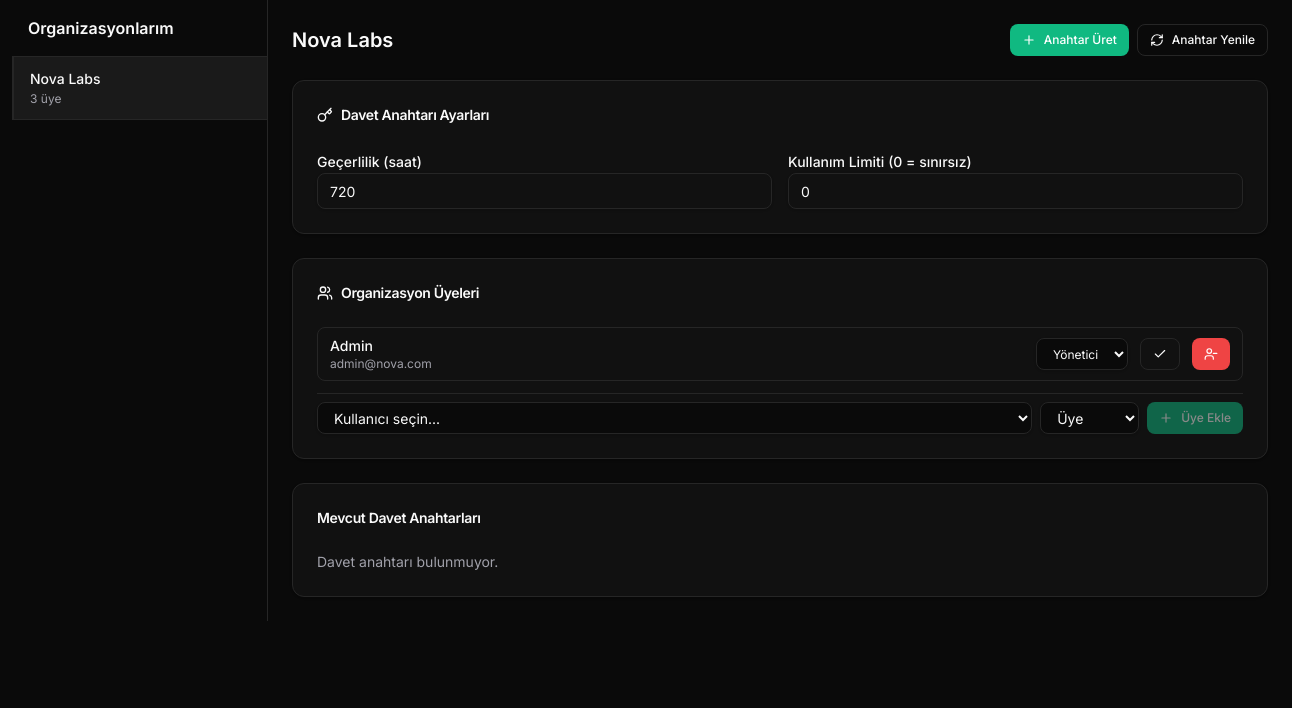
Test case: OrganizationPage › yönetilen organizasyonları listeler ve yeni davet anahtarı üretir
Click the button "Anahtar Üret" at (1069,40), box [1010,24,1129,56]
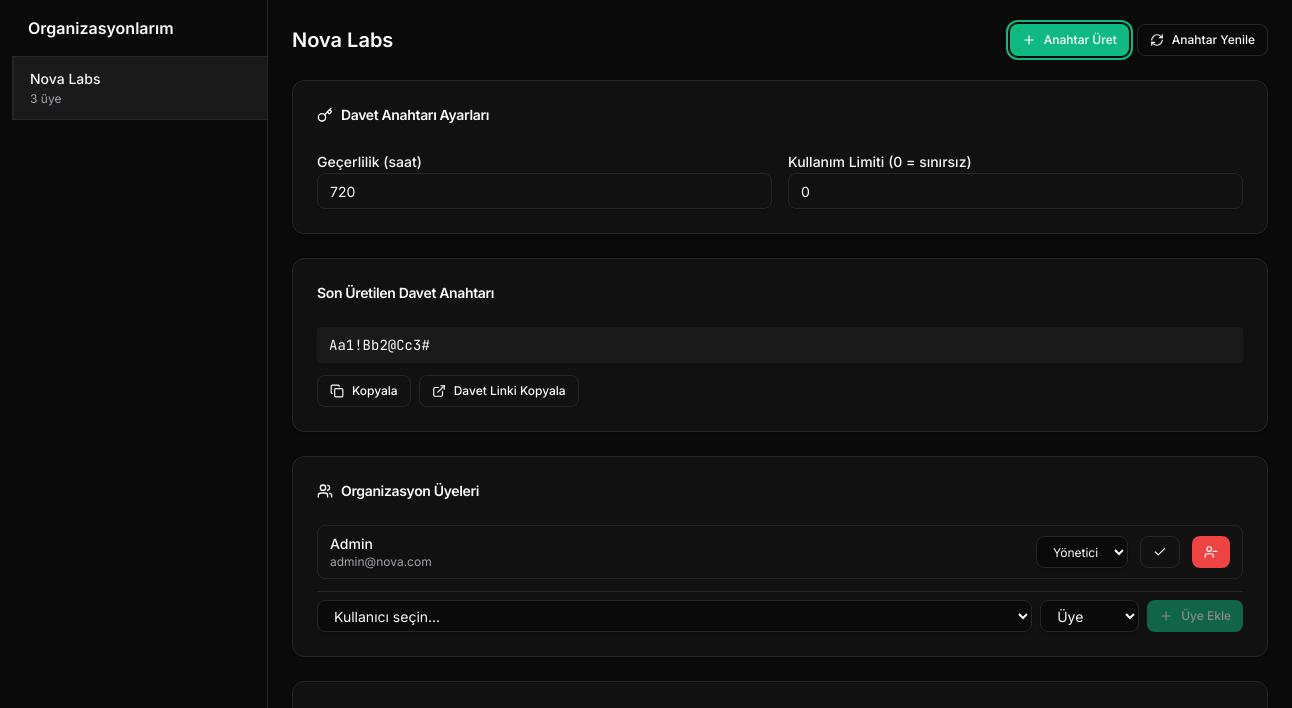
Result: the text "Aa1!Bb2@Cc3#" is shown at [317,327,1243,363]
